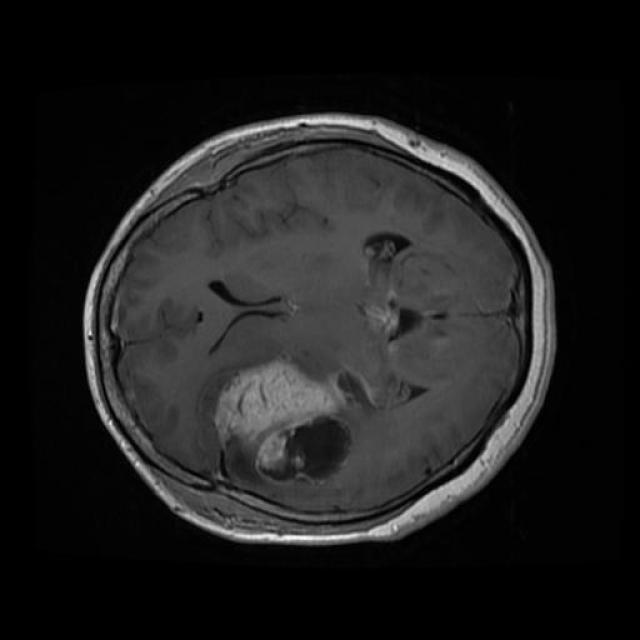Meningioma: (213, 356, 369, 481)
